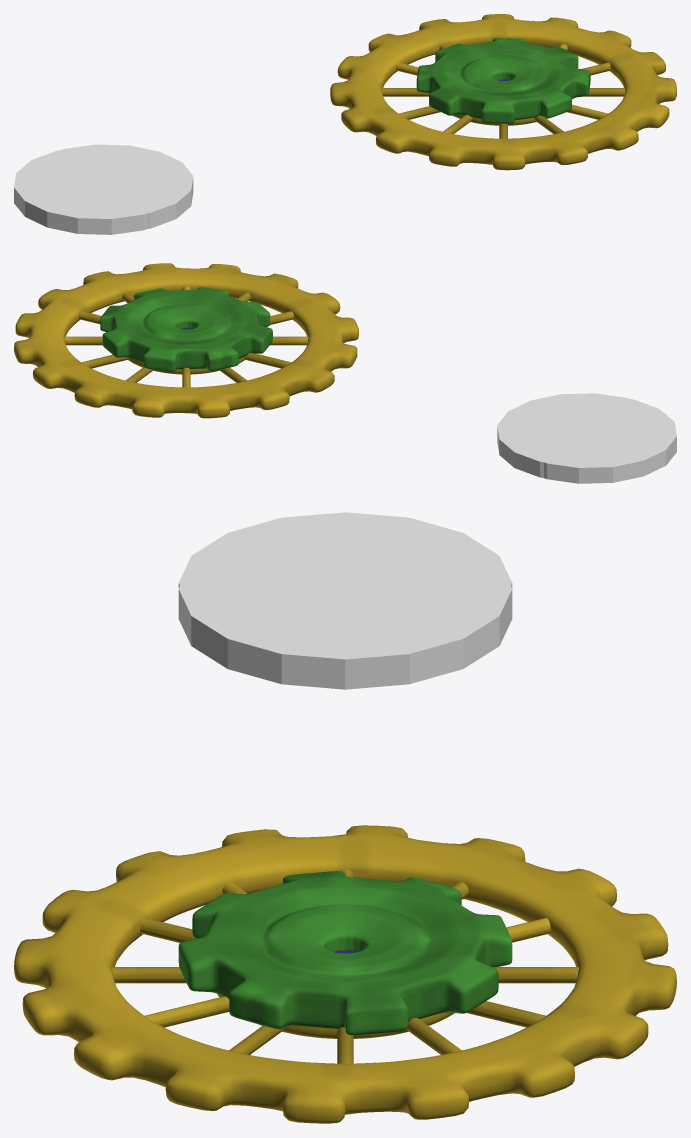
Rendered from Gears.fbx.
3 renders of one model, top to bottom at view 1: azimuth 30°, elevation 25°; view 2: azimuth 150°, elevation 25°; view 3: azimuth 270°, elevation 25°, orthographic. The views are drawn at different scales.
Parts seen in each view (by area): view 1: Gear3, Gear01, Cylinder.001, Gear01.001; view 2: Gear3, Cylinder.001, Gear01, Gear01.001; view 3: Gear3, Gear01, Cylinder.001, Gear01.001.
Part boxes in pixels (box(x1,y1,x2,y2)): Gear3: box(330, 14, 676, 170); Gear01: box(416, 38, 590, 123); Cylinder.001: box(14, 149, 185, 234); Gear01.001: box(20, 144, 193, 228); Gear3: box(14, 263, 358, 418); Cylinder.001: box(504, 395, 676, 483); Gear01: box(100, 287, 272, 371); Gear01.001: box(497, 393, 669, 477); Gear3: box(14, 825, 676, 1123); Gear01: box(178, 871, 512, 1035); Cylinder.001: box(178, 512, 512, 653); Gear01.001: box(178, 518, 512, 689).
Bounding box in the file's own units: 167 × 7.73 × 79.52.
